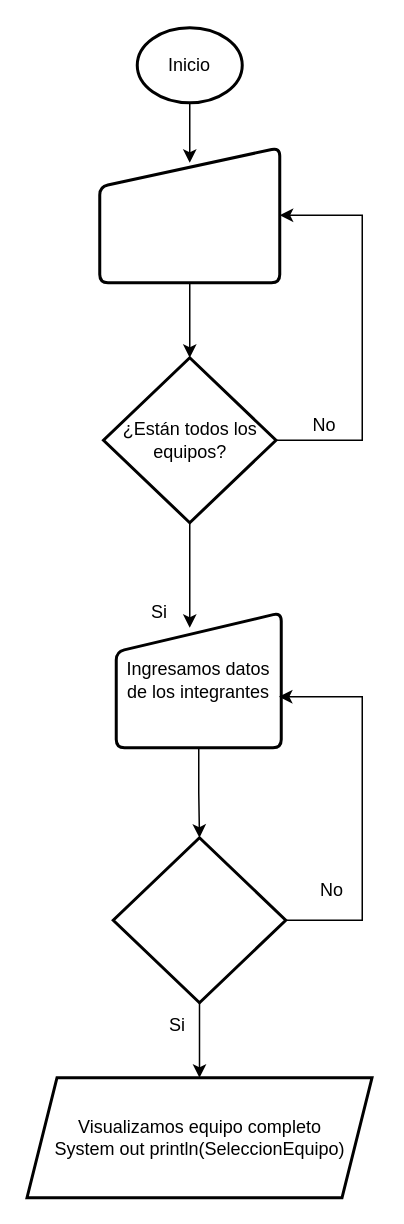
This 404x1224 diagram has some shape labels left out. Here are the shapes that lost their labels. From the top down, the centre of each, then its label:
At (189,215): "Ingresamos datos de los equipos".
At (198,920): "¿Están todos los jugadores?".
